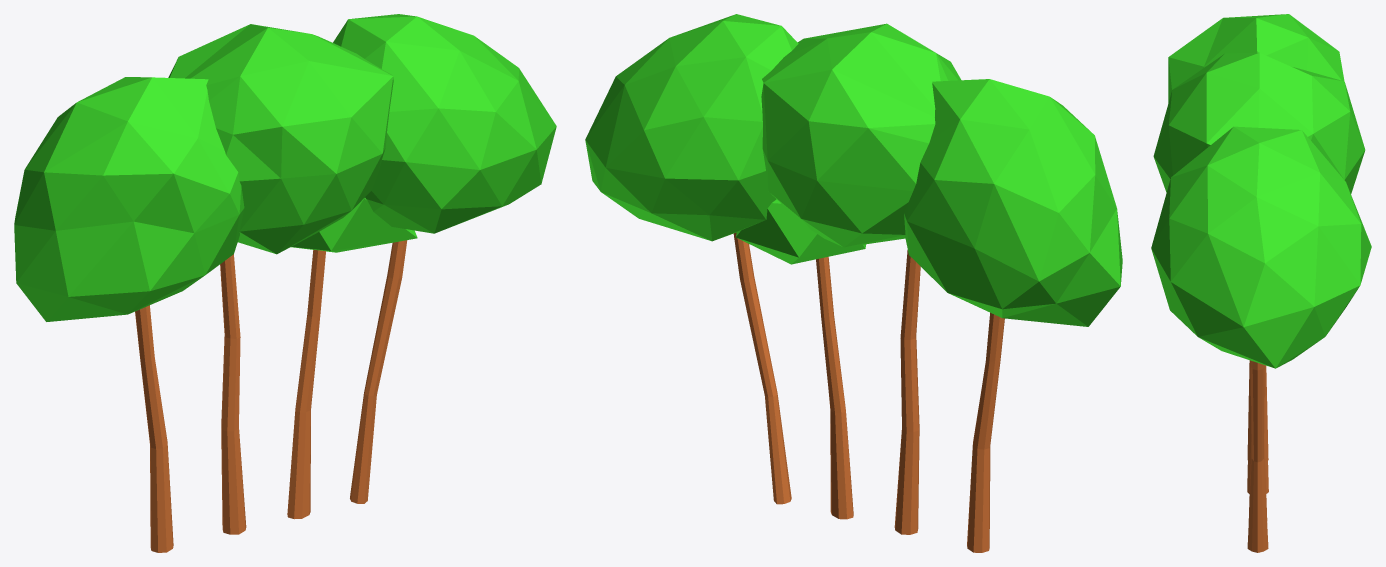
Rendered from trees_7.fbx.
3 renders of one model, left to right at view 1: azimuth 30°, elevation 25°; view 2: azimuth 150°, elevation 25°; view 3: azimuth 270°, elevation 25°, orthographic. The views are drawn at different scales.
Parts seen in each view (by area): view 1: 7; view 2: 7; view 3: 7.
Part boxes in pixels (x1,y1,x2,y2): 7: (14,14,556,552); 7: (585,14,1122,552); 7: (1151,14,1371,552).
Size of the model in its own units: 5.34 by 4.74 by 2.08.
